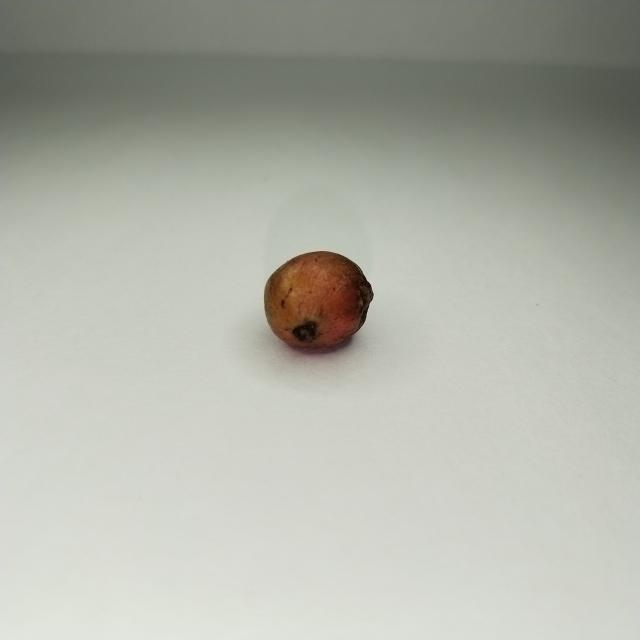Infectado: (262, 252, 375, 355)
